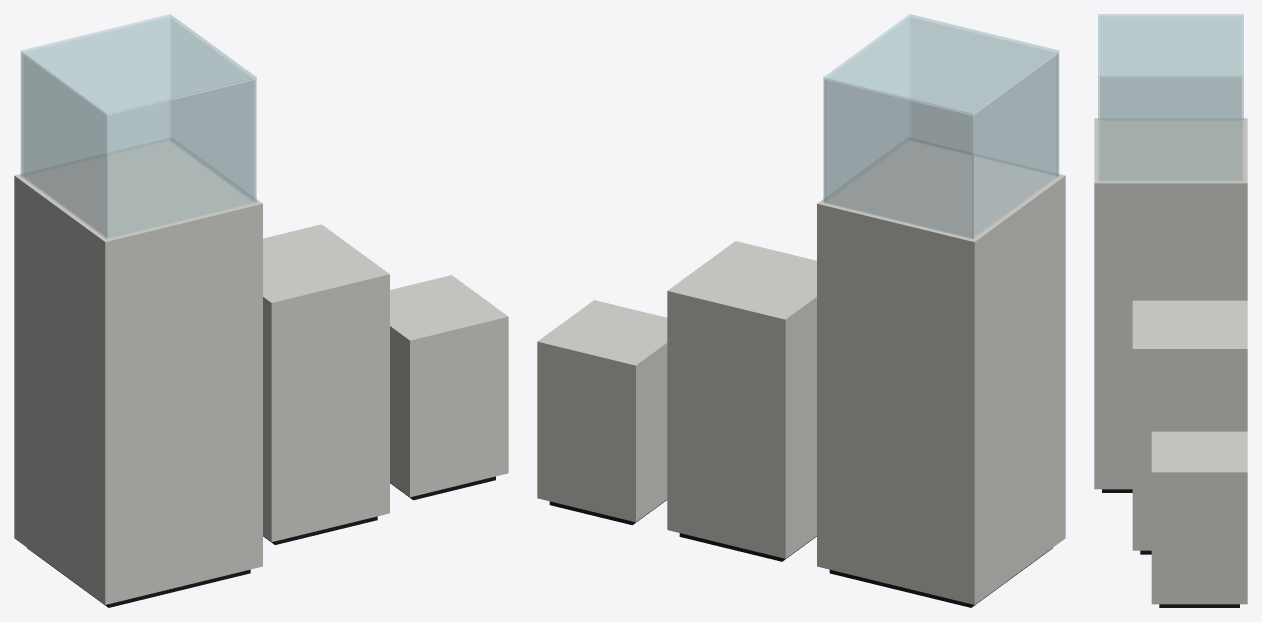
The model's file is 066_display_plinth_set_3_pieces.glb.
The picture shows the model from 3 angles, left to right: view 1: azimuth 30°, elevation 25°; view 2: azimuth 150°, elevation 25°; view 3: azimuth 270°, elevation 25°; orthographic projection. The views are drawn at different scales.
Visible parts, largest first — view 1: 000_plinth_1_body, 002_plinth_2_body, 004_plinth_3_body, 008_acrylic_hood_side, 007_acrylic_hood_side, 006_acrylic_hood_top, 009_acrylic_hood_side, 010_acrylic_hood_side, 001_plinth_1_recessed_base; view 2: 000_plinth_1_body, 002_plinth_2_body, 004_plinth_3_body, 007_acrylic_hood_side, 008_acrylic_hood_side, 006_acrylic_hood_top, 009_acrylic_hood_side, 010_acrylic_hood_side, 001_plinth_1_recessed_base; view 3: 000_plinth_1_body, 002_plinth_2_body, 004_plinth_3_body, 010_acrylic_hood_side, 009_acrylic_hood_side, 006_acrylic_hood_top, 007_acrylic_hood_side, 008_acrylic_hood_side, 005_plinth_3_recessed_base.
Boxes of the visible parts, x1=… form: 000_plinth_1_body: x1=14, y1=137, x2=262, y2=604; 002_plinth_2_body: x1=263, y1=224, x2=389, y2=541; 004_plinth_3_body: x1=390, y1=275, x2=508, y2=497; 008_acrylic_hood_side: x1=106, y1=79, x2=256, y2=238; 007_acrylic_hood_side: x1=20, y1=16, x2=170, y2=176; 006_acrylic_hood_top: x1=20, y1=14, x2=256, y2=115; 009_acrylic_hood_side: x1=21, y1=53, x2=107, y2=237; 010_acrylic_hood_side: x1=170, y1=17, x2=255, y2=201; 001_plinth_1_recessed_base: x1=27, y1=548, x2=250, y2=607; 000_plinth_1_body: x1=817, y1=137, x2=1065, y2=604; 002_plinth_2_body: x1=667, y1=241, x2=816, y2=558; 004_plinth_3_body: x1=537, y1=300, x2=667, y2=522; 007_acrylic_hood_side: x1=823, y1=79, x2=973, y2=238; 008_acrylic_hood_side: x1=909, y1=16, x2=1059, y2=176; 006_acrylic_hood_top: x1=823, y1=14, x2=1059, y2=115; 009_acrylic_hood_side: x1=972, y1=53, x2=1058, y2=237; 010_acrylic_hood_side: x1=824, y1=17, x2=910, y2=201; 001_plinth_1_recessed_base: x1=829, y1=548, x2=1052, y2=607; 000_plinth_1_body: x1=1094, y1=118, x2=1247, y2=489; 002_plinth_2_body: x1=1132, y1=300, x2=1247, y2=550; 004_plinth_3_body: x1=1151, y1=431, x2=1247, y2=604; 010_acrylic_hood_side: x1=1100, y1=77, x2=1241, y2=181; 009_acrylic_hood_side: x1=1100, y1=16, x2=1241, y2=120; 006_acrylic_hood_top: x1=1098, y1=14, x2=1243, y2=77; 007_acrylic_hood_side: x1=1242, y1=16, x2=1243, y2=181; 008_acrylic_hood_side: x1=1098, y1=16, x2=1099, y2=181; 005_plinth_3_recessed_base: x1=1159, y1=604, x2=1239, y2=607.
Bounding box in the file's own units: 1.11 × 1.21 × 0.4.
